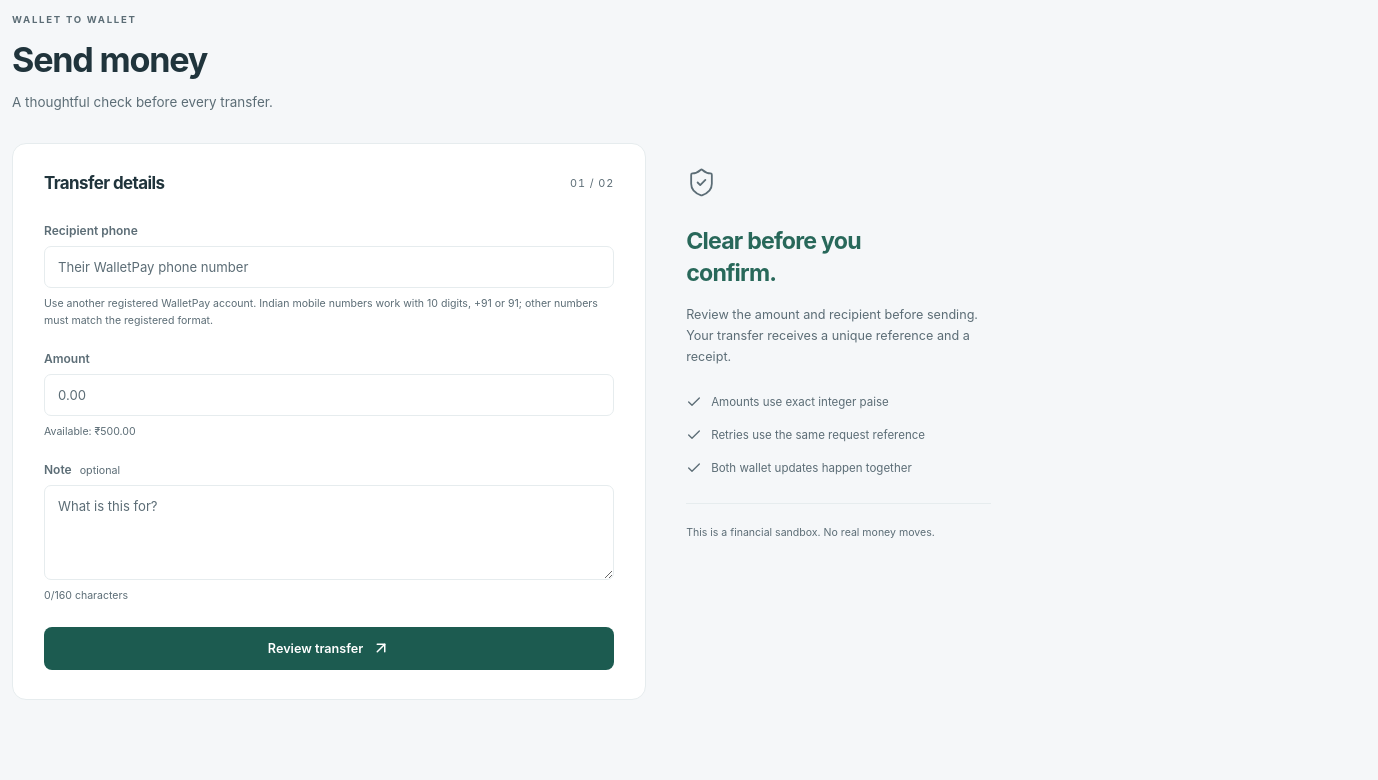
Test: transfer confirmation › blocks a transfer beyond the displayed available balance
Type "9876543210" into the field labelled "Recipient phone" at (329, 267), box [44,246,614,288]
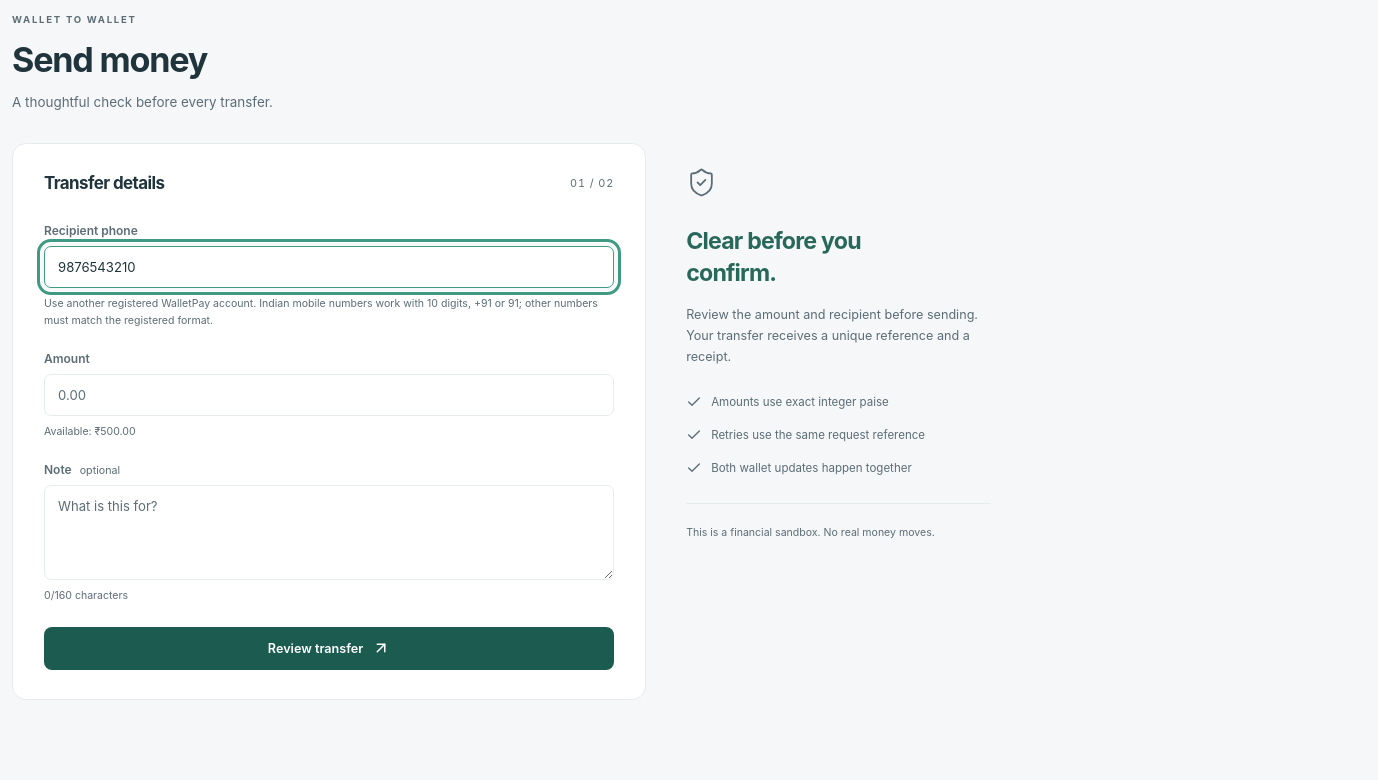
Type "500.01" into the field labelled "Amount" at (329, 395), box [44,374,614,416]
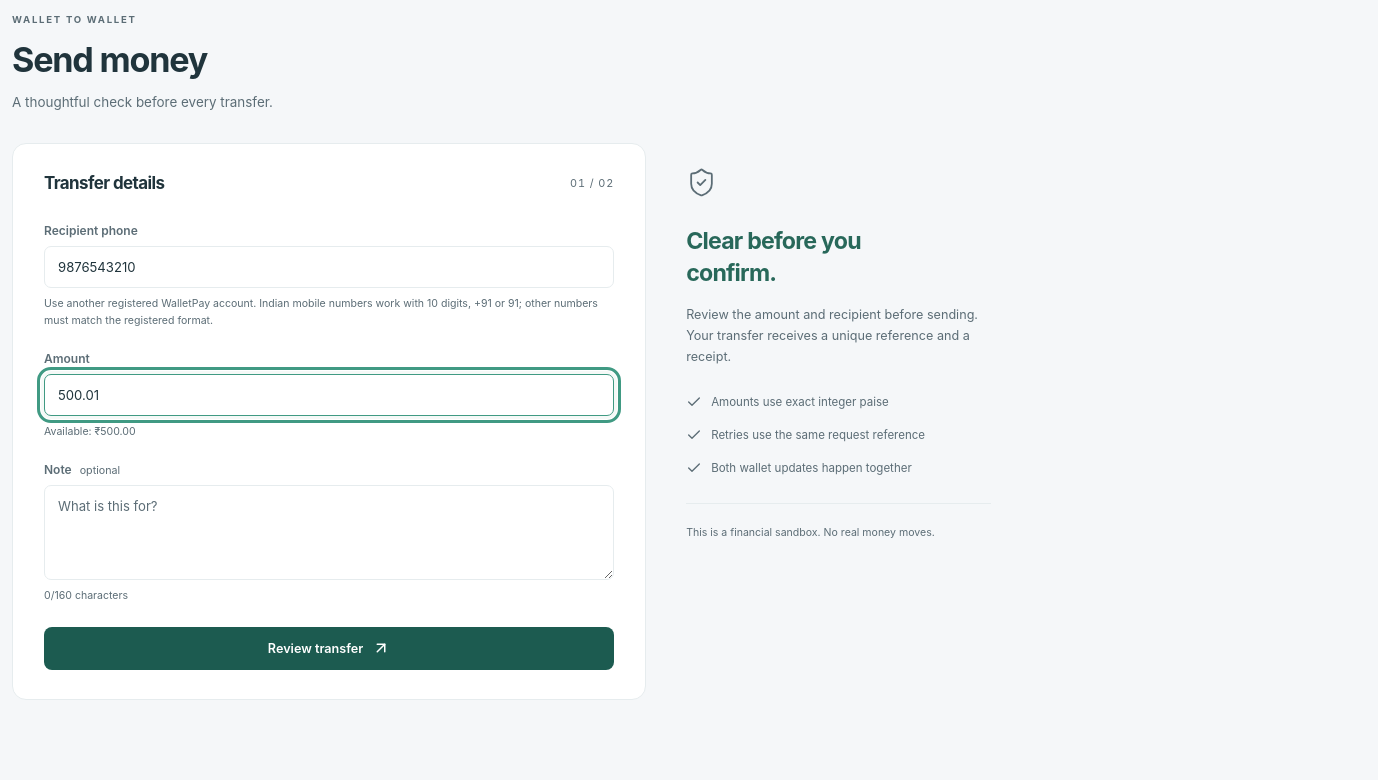
Click the button "Review transfer" at (329, 648), box [44,627,614,670]
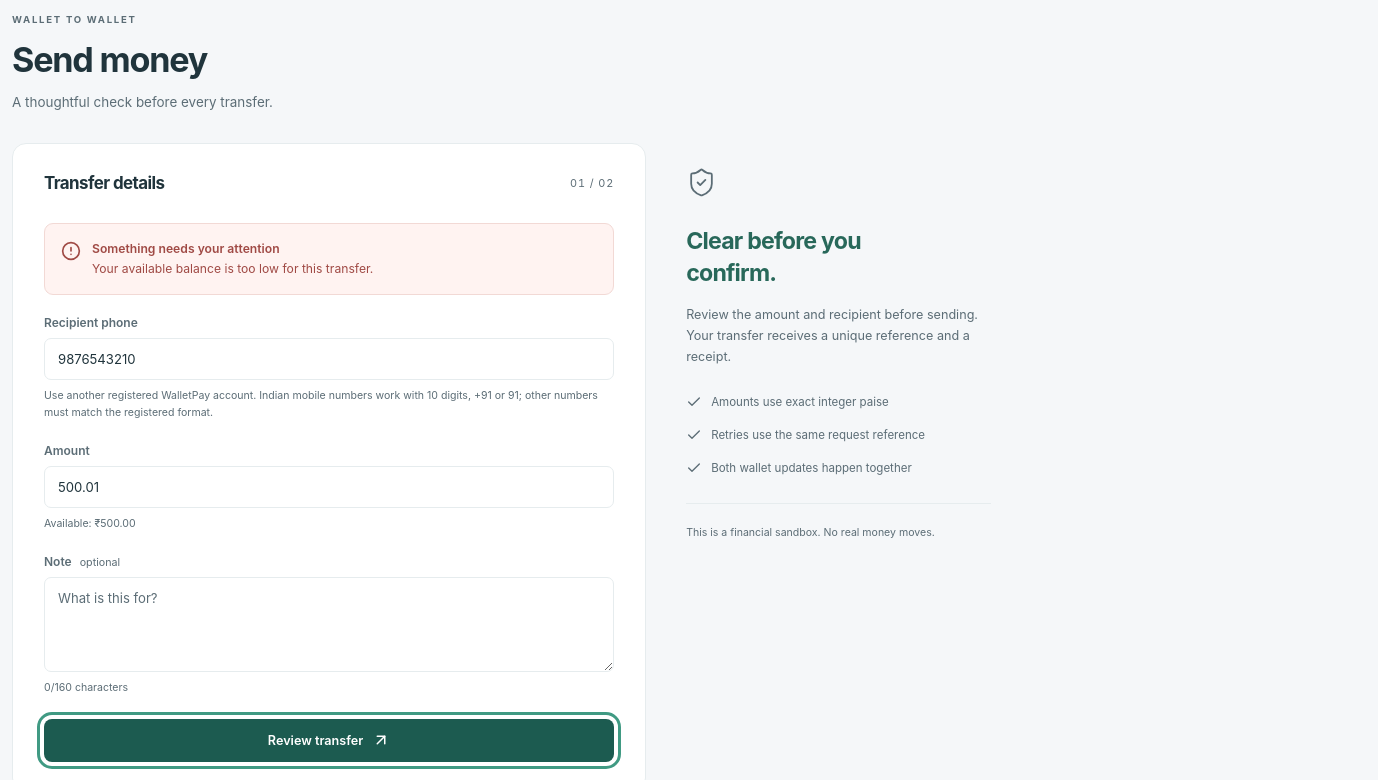
Expected: the message shows "available balance is too low", [92,261,373,276]
